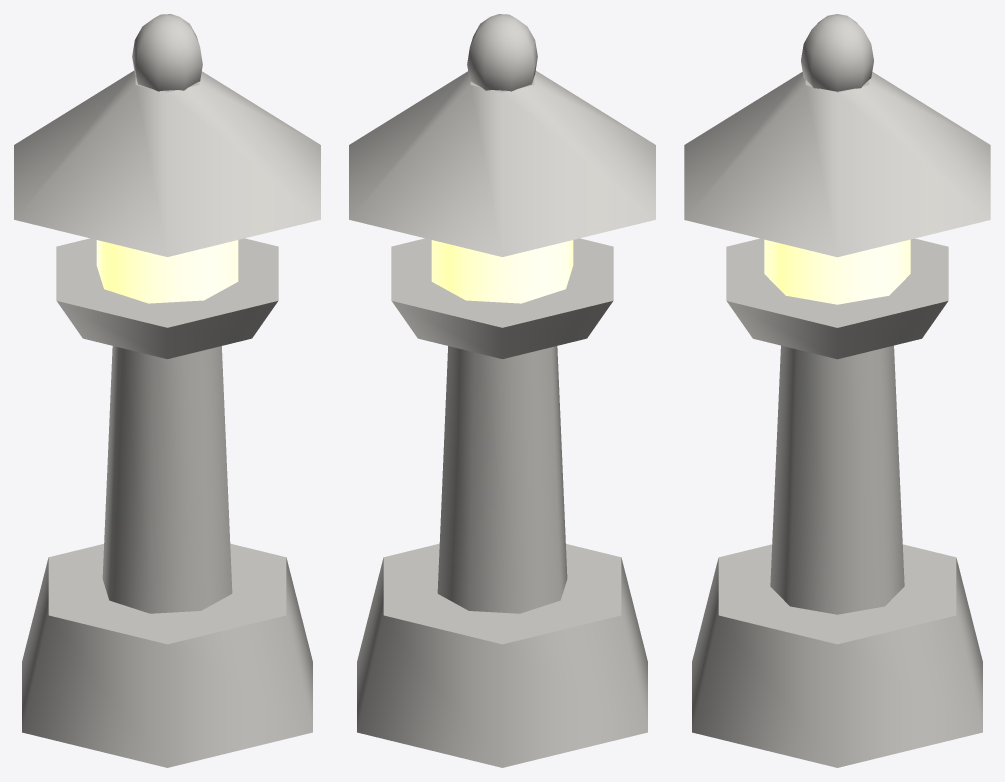
File: stone_lantern.glb
The picture shows the model from 3 angles, left to right: view 1: azimuth 30°, elevation 25°; view 2: azimuth 150°, elevation 25°; view 3: azimuth 270°, elevation 25°; orthographic projection.
Parts seen in each view (by area): view 1: CarvedGranite, LanternCoreLight; view 2: CarvedGranite, LanternCoreLight; view 3: CarvedGranite, LanternCoreLight.
Boxes of the visible parts, x1,y1,x2,y2 form: CarvedGranite: (14, 14, 320, 767); LanternCoreLight: (96, 240, 238, 303); CarvedGranite: (349, 14, 655, 767); LanternCoreLight: (431, 240, 573, 303); CarvedGranite: (684, 14, 990, 767); LanternCoreLight: (764, 239, 910, 304).
Size of the model in its own units: 1.16 by 2.46 by 1.
